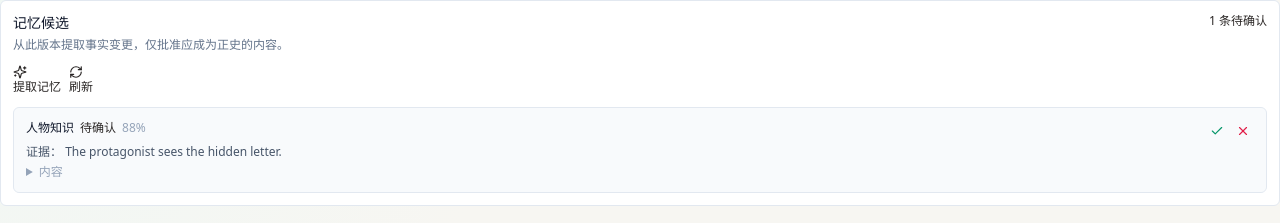
Test case: MemoryCandidatePanel › approved updates a pending candidate, refetches, and invalidates context
Expected: the text "人物知识" is shown, [26,120,74,136]
Step 1. Click the button named "批准记忆候选" → (1217, 131), box [1206,120,1228,142]
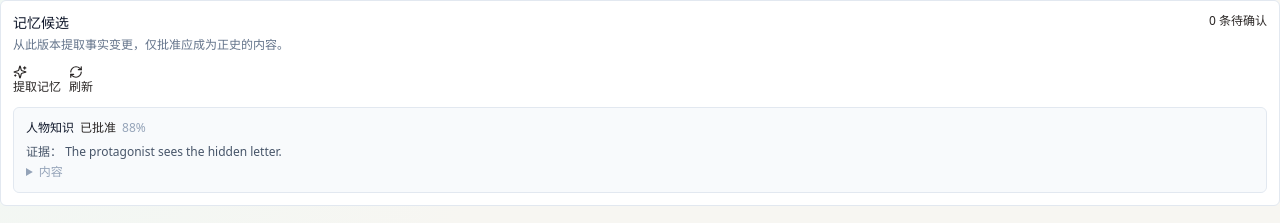
Expected: the text "已批准" is shown, [80,120,116,136]
Expected: the button labelled "批准记忆候选" is gone
Expected: the button labelled "拒绝记忆候选" is gone
